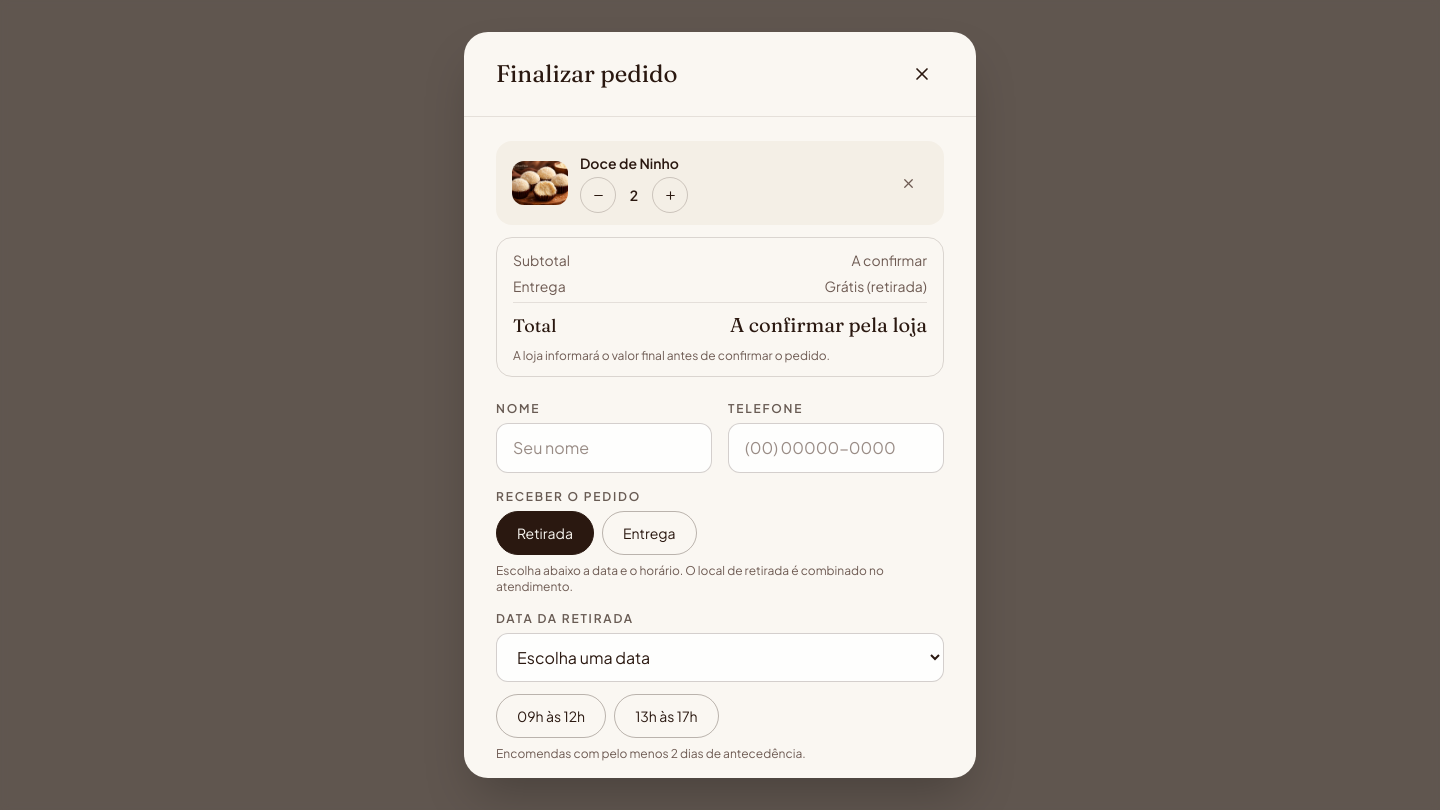
Test: data que lotou entre a escolha e o envio (409): volta ao formulário, recarrega a agenda e mantém o carrinho
This screenshot has width=1440, height=810.
Expected: the dialog with test id "order-modal" is shown, [464, 32, 976, 778]
Type "Maria Silva" into the field with test id "order-input-nome" at (604, 448), box [496, 423, 712, 473]
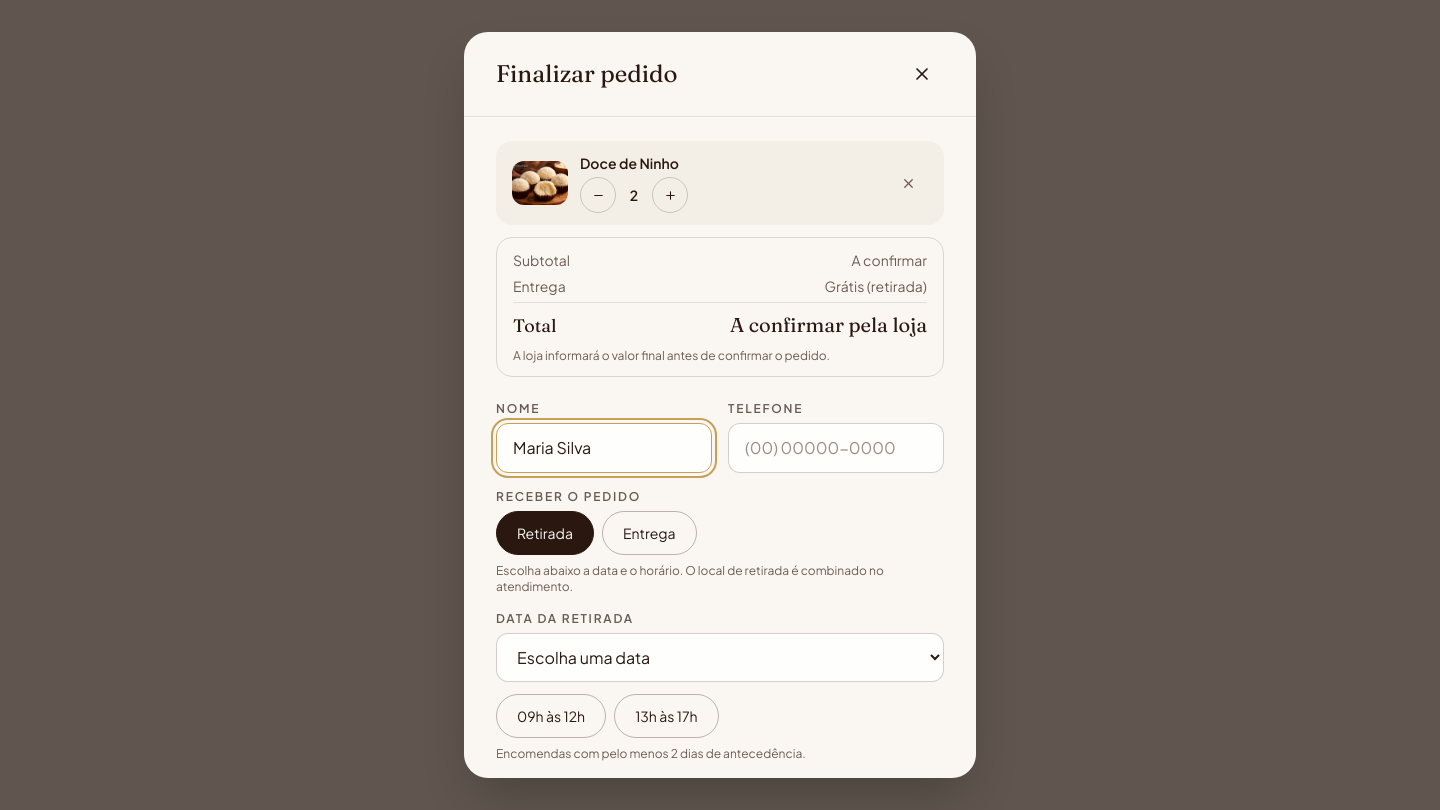
Type "11912345678" into the field with test id "order-input-telefone" at (836, 448), box [728, 423, 944, 473]
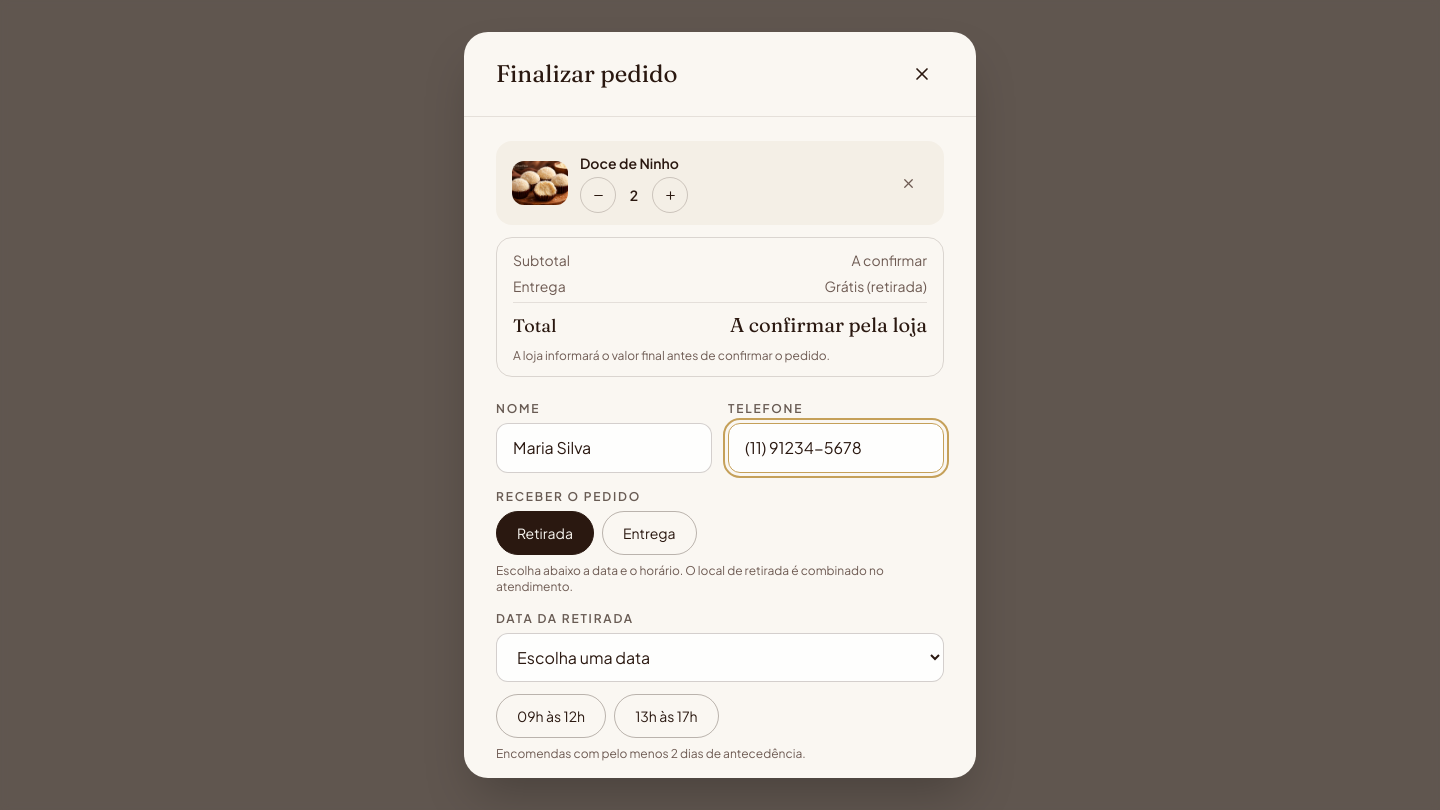
Select "terça-feira, 13/10" in the dropdown with test id "order-input-data" at (720, 658), box [496, 633, 944, 682]
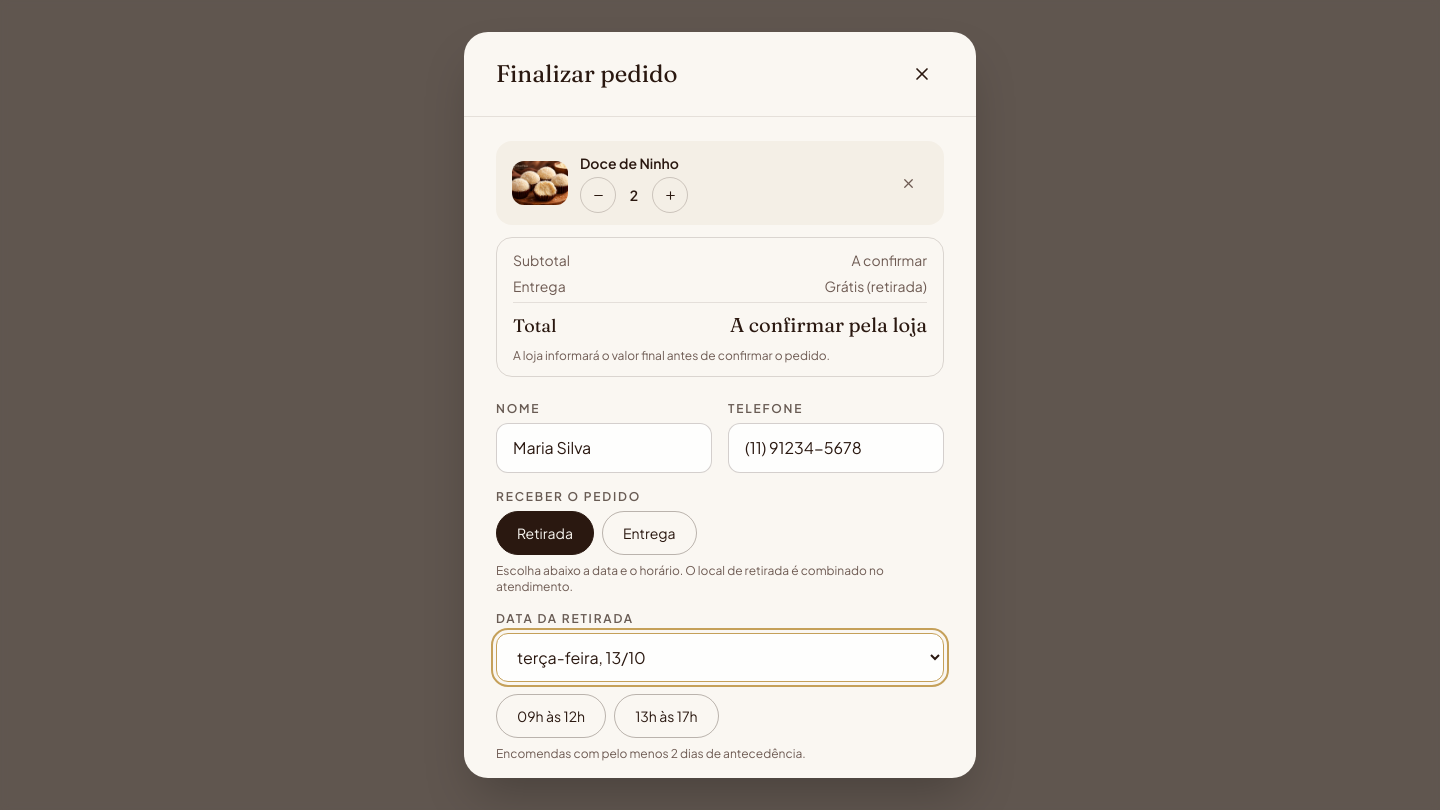
Click the button "09h às 12h" at (551, 716), box [496, 694, 606, 738]
(page scrolled)
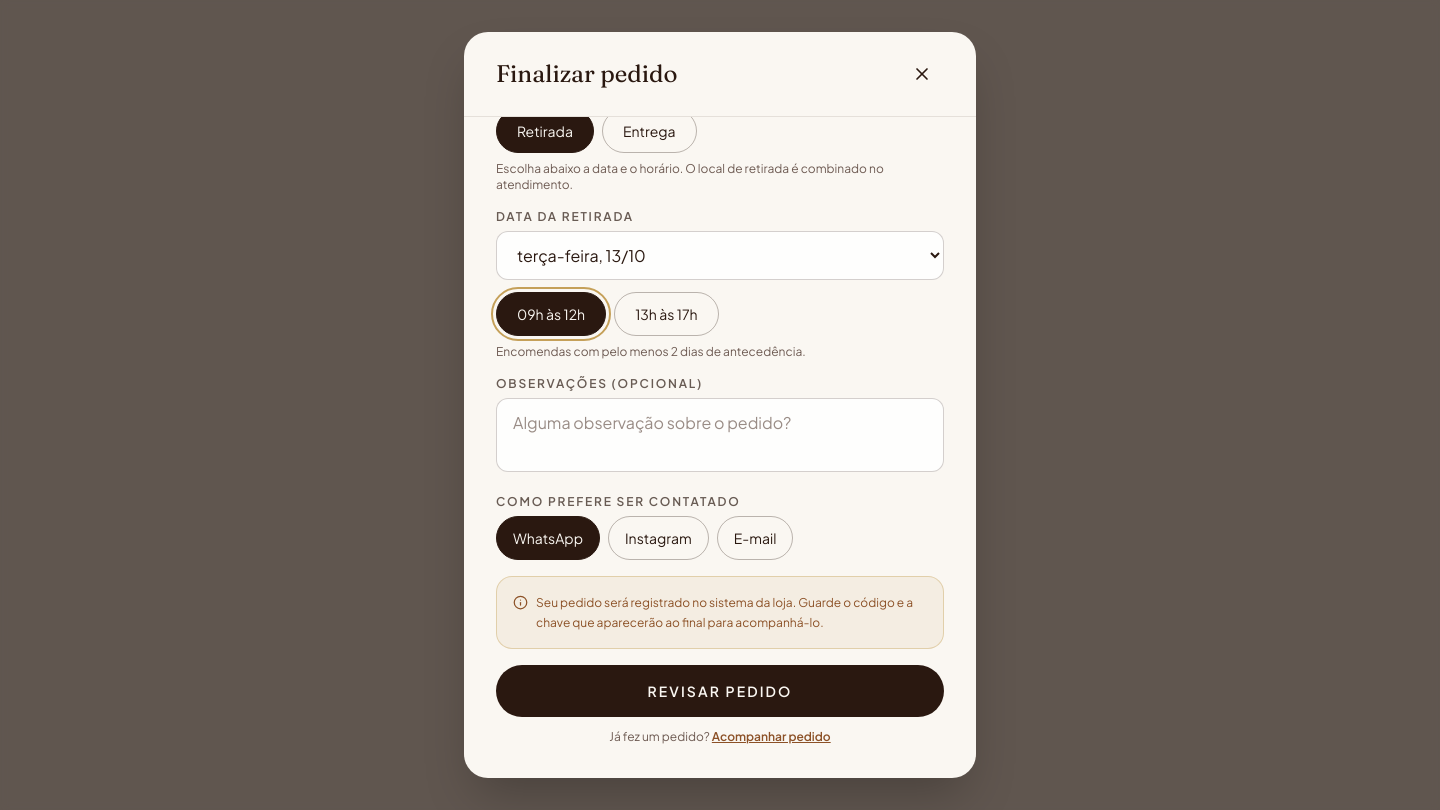
Click the button with test id "order-review-btn" at (720, 691), box [496, 665, 944, 717]
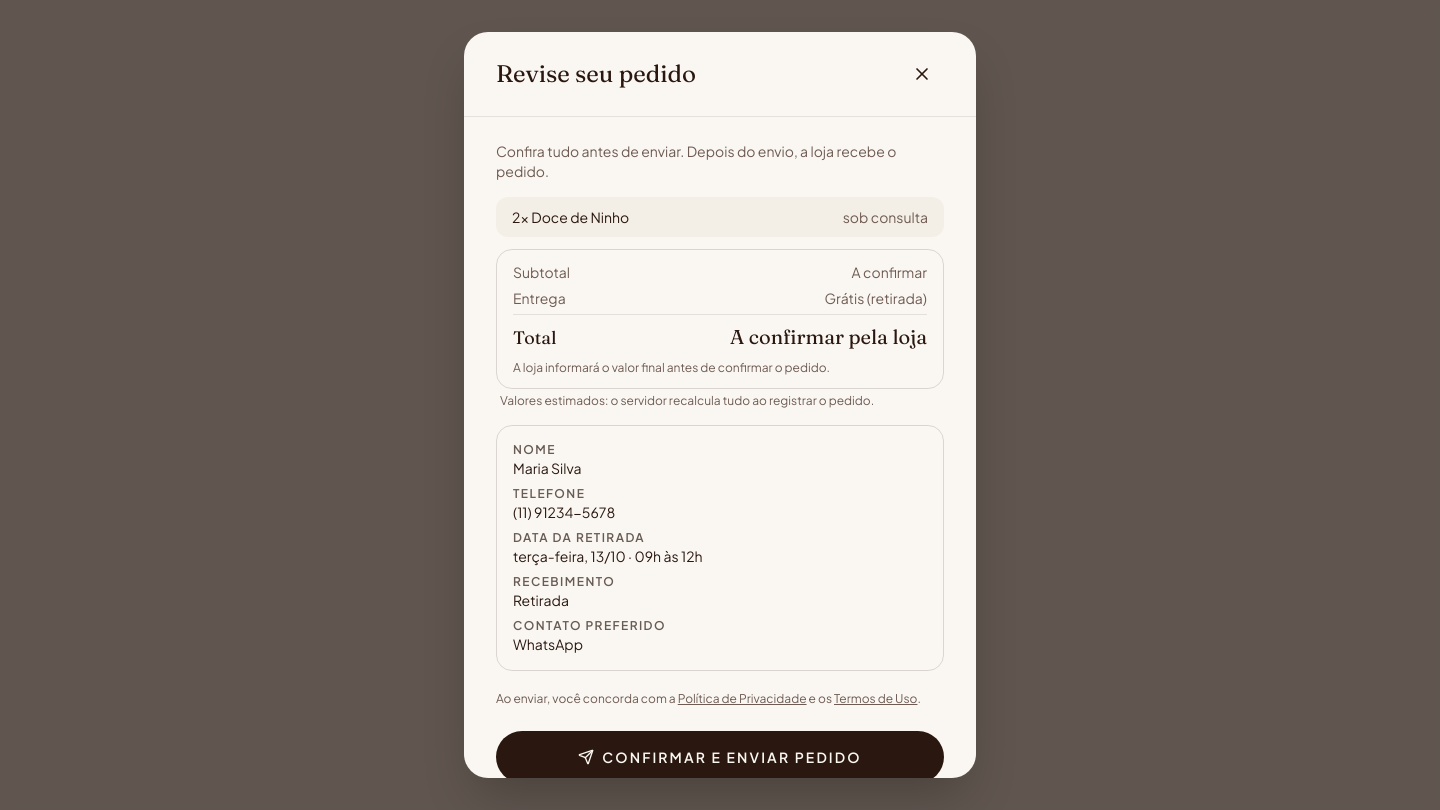
Click the button with test id "order-confirm-btn" at (720, 757), box [496, 731, 944, 783]
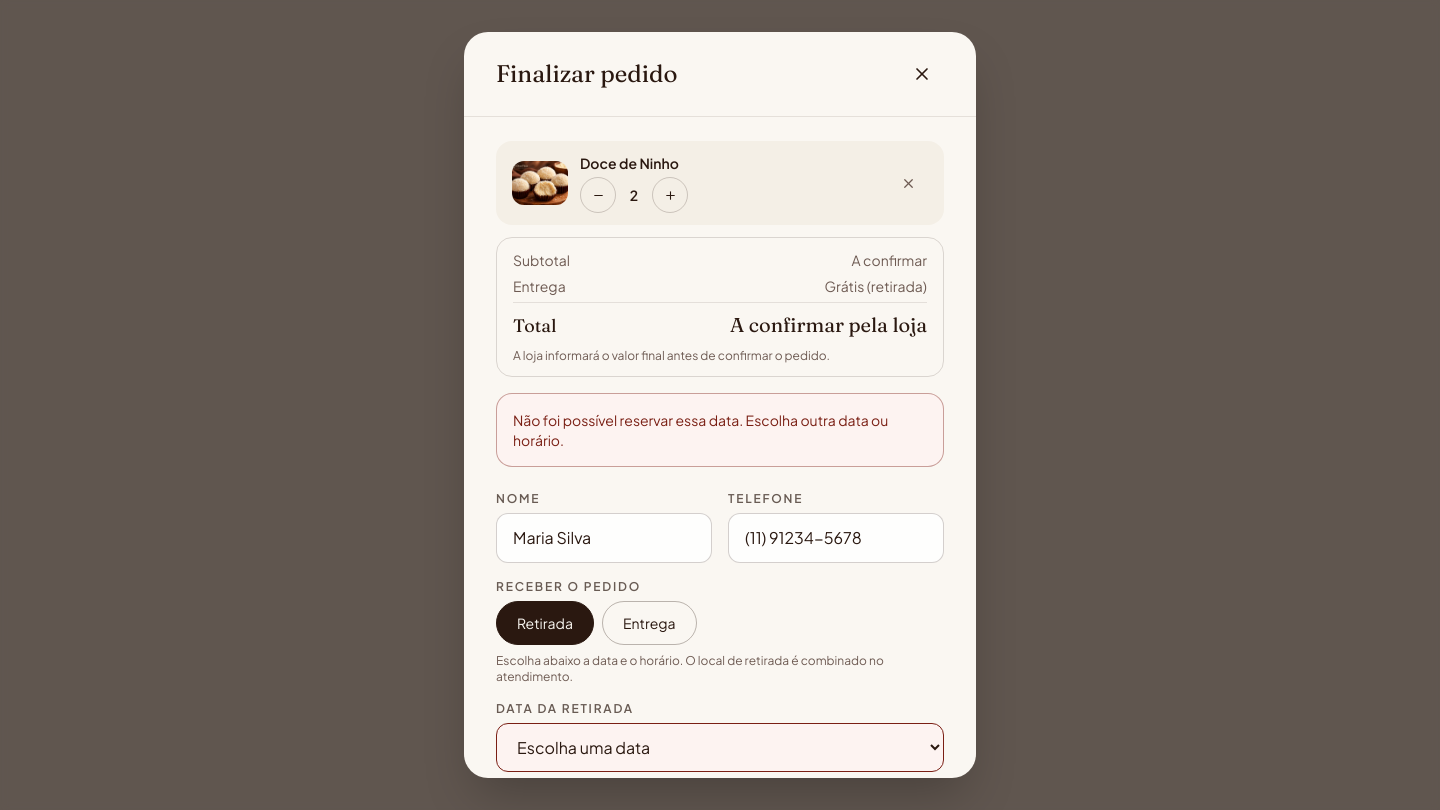
Now the dropdown with test id "order-input-data" shows "Escolha uma data", box [496, 723, 944, 772]
